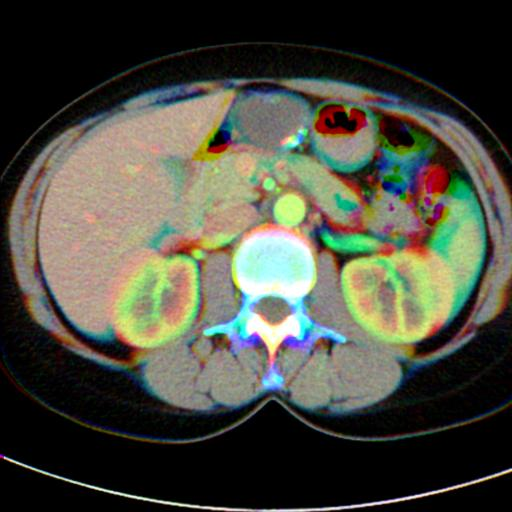Cyst: (228, 92, 310, 148)
